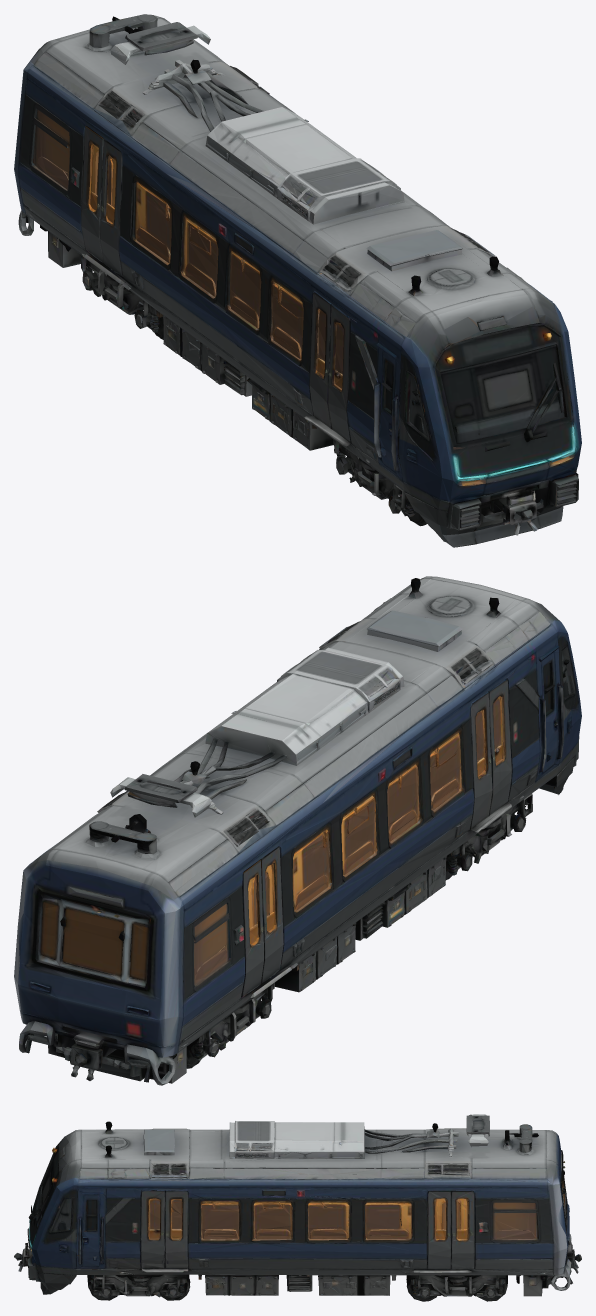
Rendered from train_front_lod0.glb.
3 renders of one model, top to bottom at view 1: azimuth 30°, elevation 25°; view 2: azimuth 150°, elevation 25°; view 3: azimuth 270°, elevation 25°, orthographic. The views are drawn at different scales.
Visible parts, largest first — view 1: Train_Front_lod0; view 2: Train_Front_lod0; view 3: Train_Front_lod0.
Boxes of the visible parts, left/top/right/bottom form: Train_Front_lod0: left=14, top=14, right=581, bottom=547; Train_Front_lod0: left=14, top=576, right=581, bottom=1085; Train_Front_lod0: left=14, top=1114, right=581, bottom=1301.
Size of the model in its own units: 3.1 by 4.49 by 14.
1 material, 1 textured.
